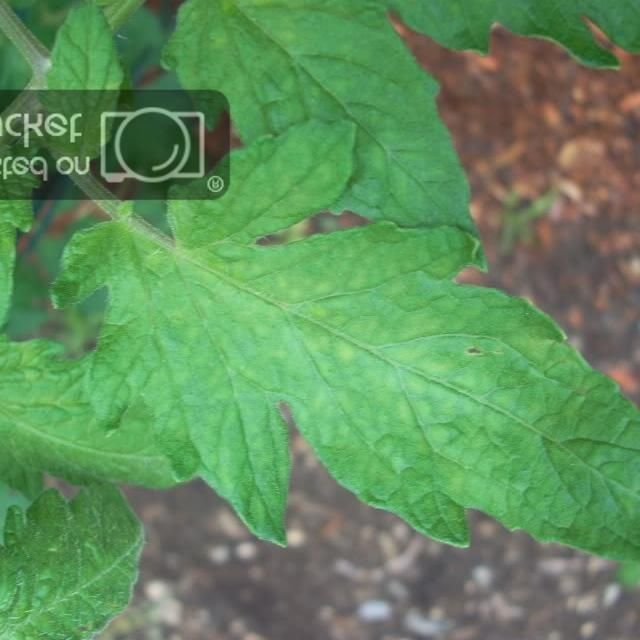Tomato mold leaf: (66, 130, 640, 594)
